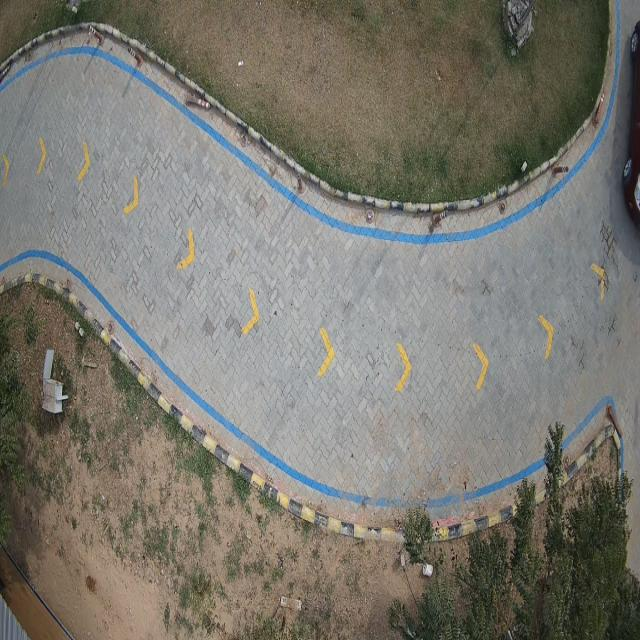car: (622, 20, 640, 223)
